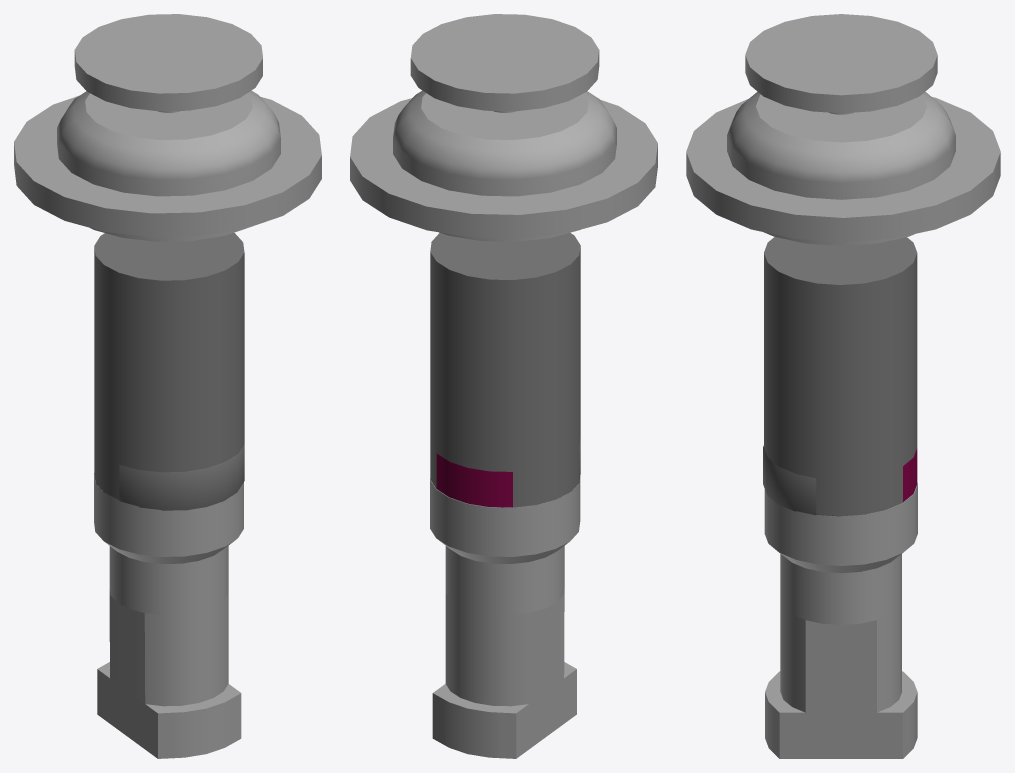
File: Implant.fbx
3 views of the same model, side by side, from view 1: azimuth 30°, elevation 25°; view 2: azimuth 150°, elevation 25°; view 3: azimuth 270°, elevation 25° (orthographic).
Parts seen in each view (by area): view 1: LocatorAbutmentLarge, Replica, MetalSnap, Washer, BarbieCup, LocatorAbutmentMedium, MultiImpressionCoping, LocatorAbutmentSmall; view 2: LocatorAbutmentLarge, Replica, MetalSnap, Washer, BarbieCup, LocatorAbutmentMedium, SingleImpressionCoping, LocatorAbutmentSmall; view 3: LocatorAbutmentLarge, Replica, MetalSnap, Washer, BarbieCup, LocatorAbutmentMedium, LocatorAbutmentSmall, MultiImpressionCoping, SingleImpressionCoping.
Part boxes in pixels (x1,y1,x2,y2): LocatorAbutmentLarge: [94, 233, 244, 500]; Replica: [94, 473, 243, 758]; MetalSnap: [57, 90, 280, 241]; Washer: [14, 95, 321, 237]; BarbieCup: [74, 14, 262, 112]; LocatorAbutmentMedium: [94, 323, 244, 498]; MultiImpressionCoping: [119, 444, 244, 510]; LocatorAbutmentSmall: [96, 395, 244, 497]; LocatorAbutmentLarge: [430, 233, 580, 507]; Replica: [430, 477, 580, 758]; MetalSnap: [393, 90, 616, 241]; Washer: [350, 98, 657, 238]; BarbieCup: [410, 14, 599, 112]; LocatorAbutmentMedium: [430, 322, 580, 507]; SingleImpressionCoping: [436, 453, 512, 507]; LocatorAbutmentSmall: [430, 395, 580, 506]; LocatorAbutmentLarge: [764, 237, 917, 516]; Replica: [764, 483, 917, 758]; MetalSnap: [727, 92, 955, 245]; Washer: [686, 97, 1000, 241]; BarbieCup: [745, 14, 937, 114]; LocatorAbutmentMedium: [764, 341, 916, 515]; LocatorAbutmentSmall: [764, 398, 915, 515]; MultiImpressionCoping: [763, 445, 816, 515]; SingleImpressionCoping: [903, 448, 917, 501].
Bounding box in the file's own units: 0.6189 × 1.48 × 0.6189.
